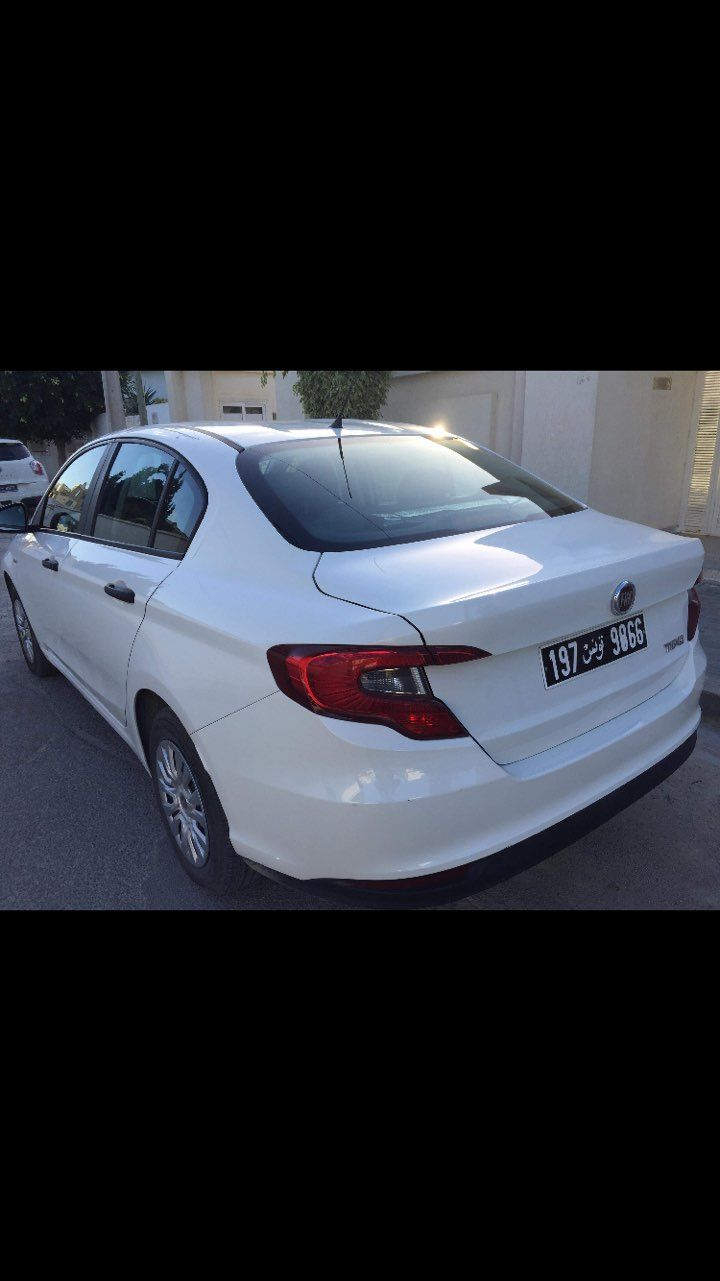LP: (539, 604, 650, 690)
